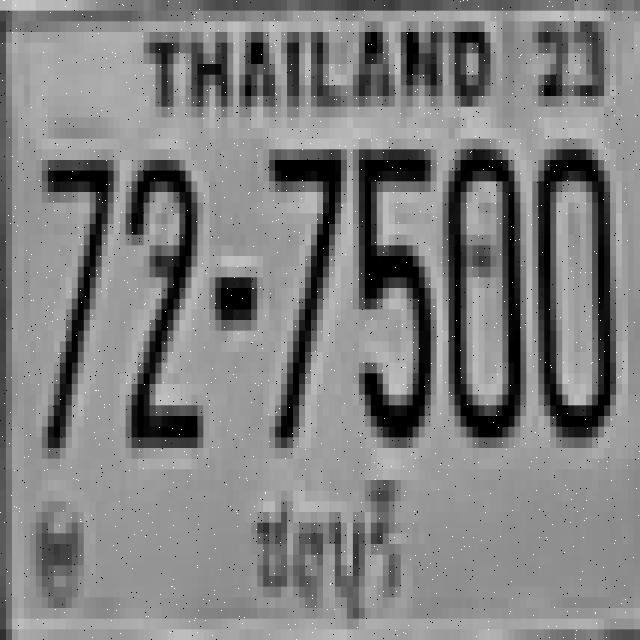0: (442, 139, 520, 437), (532, 138, 610, 426)
2: (120, 150, 198, 438)
5: (353, 139, 431, 437)
7: (263, 139, 341, 437), (39, 150, 111, 448)
Chonburi: (244, 471, 425, 640)
